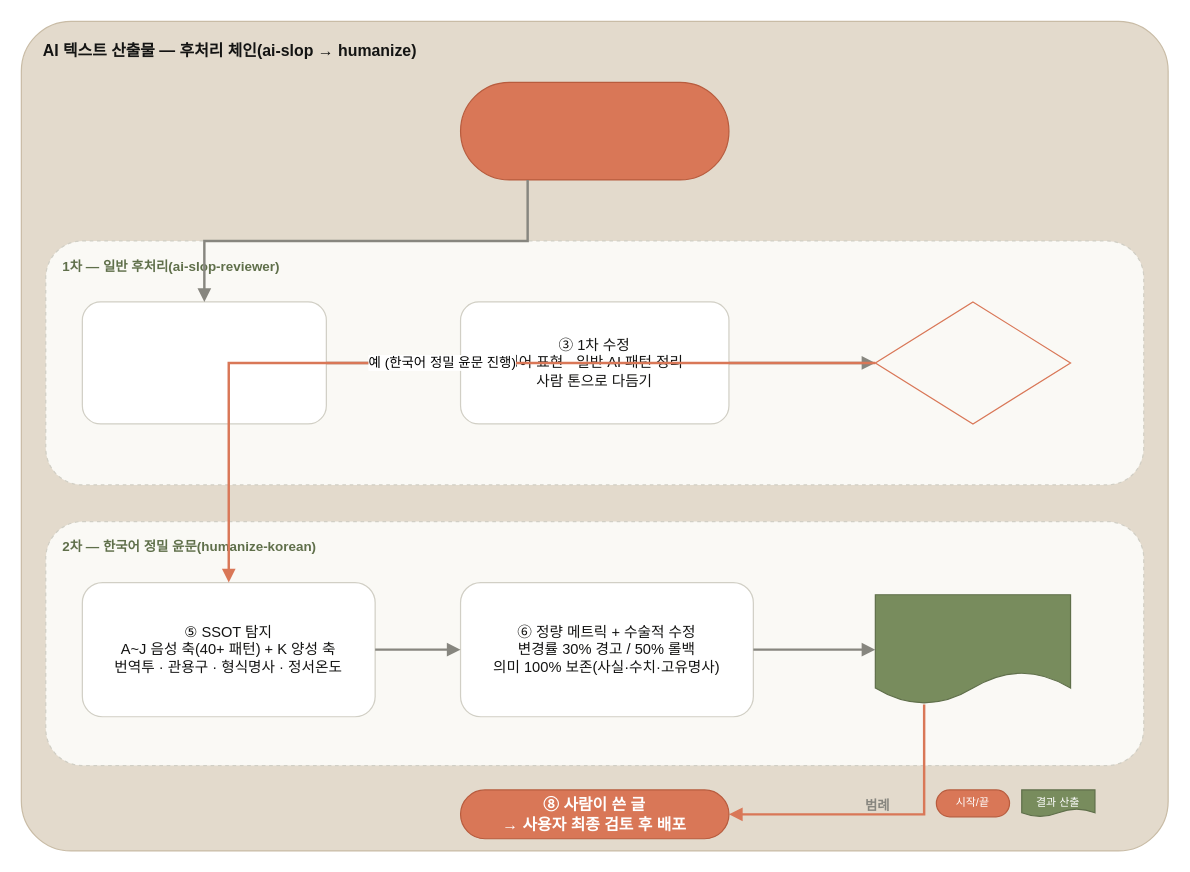
The diagram is 1190 pixels wide and 872 high, and some of its shapes have lost their labels. Here are the shapes that lost their labels. From the top down, the box of each, then its label:
(459, 81, 729, 180): ① AI 초안 블로그 · 뉴스레터 · 카피 · 사업계획서 (기계 티 포함)
(81, 301, 326, 424): ② 진단 과장 수식어 · 기계 접속어 모호한 일반화 · 요약 반복
(874, 301, 1071, 424): ④ 일반 패턴 제거?
(874, 594, 1071, 705): ⑦ A/B/C/D 등급 final.md + summary.md
